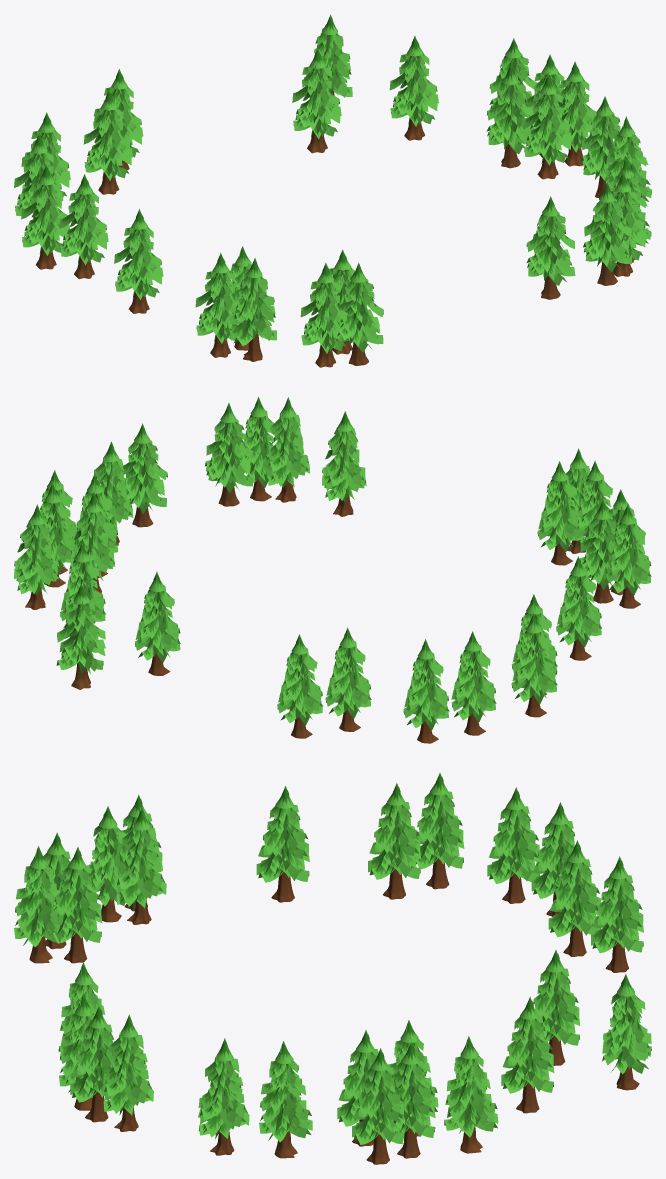
File: Tree2.fbx
3 renders of one model, top to bottom at view 1: azimuth 30°, elevation 25°; view 2: azimuth 150°, elevation 25°; view 3: azimuth 270°, elevation 25°, orthographic. The views are drawn at different scales.
Parts seen in each view (by area): view 1: Tree2; view 2: Tree2; view 3: Tree2.
Boxes of the visible parts, left/top/right/bottom form: Tree2: left=14, top=14, right=651, bottom=367; Tree2: left=14, top=397, right=651, bottom=743; Tree2: left=14, top=773, right=651, bottom=1164.
Size of the model in its own units: 12117 by 2149 by 11021.
1 material, 1 textured.
